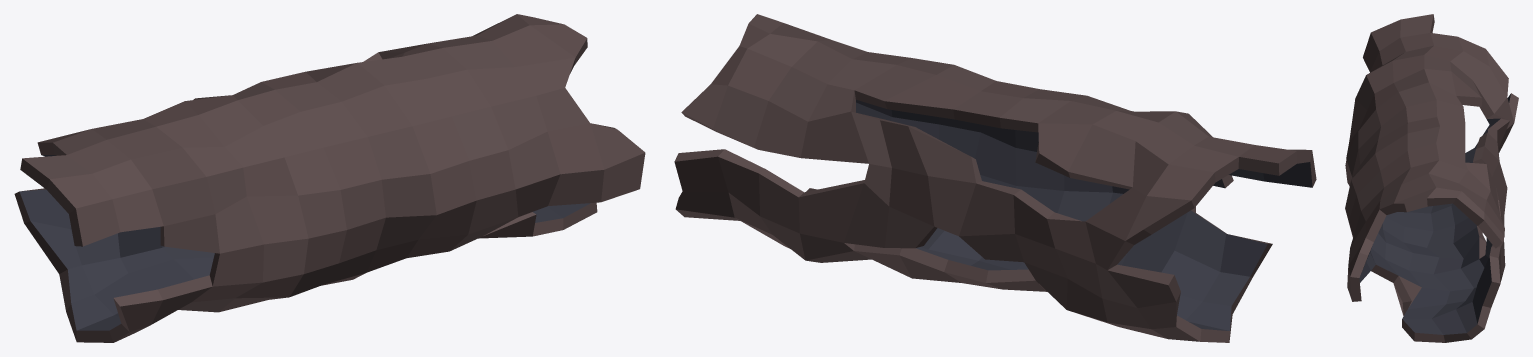
The model's file is hollow_tree.FBX.
3 renders of one model, left to right at view 1: azimuth 30°, elevation 25°; view 2: azimuth 150°, elevation 25°; view 3: azimuth 270°, elevation 25°, orthographic. The views are drawn at different scales.
Parts seen in each view (by area): view 1: hollow_tree; view 2: hollow_tree; view 3: hollow_tree.
Part boxes in pixels (box(x1,y1,x2,y2)): hollow_tree: box(14, 14, 645, 342); hollow_tree: box(674, 14, 1316, 342); hollow_tree: box(1345, 14, 1518, 342).
Size of the model in its own units: 5.07 by 1.72 by 1.85.
